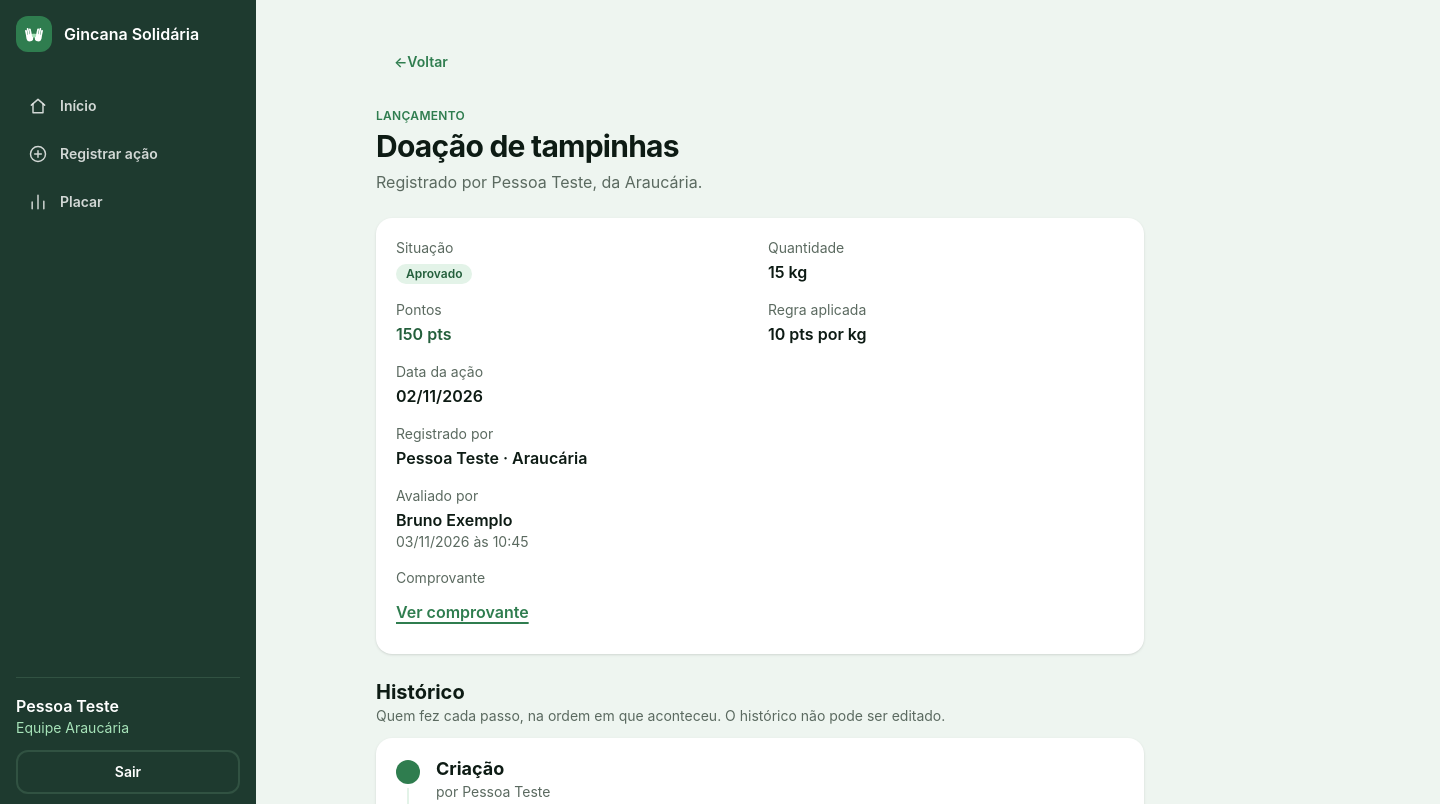
Test: Detalhe do lançamento e histórico (US09) › quem chega e de onde › quem chega por um link direto volta ao início do próprio perfil, e não para fora do app
The width and height of the screenshot is (1440, 804).
Step 1. Click the button "← Voltar" → {"x": 421, "y": 62}, box x1=376 y1=40 x2=466 y2=84
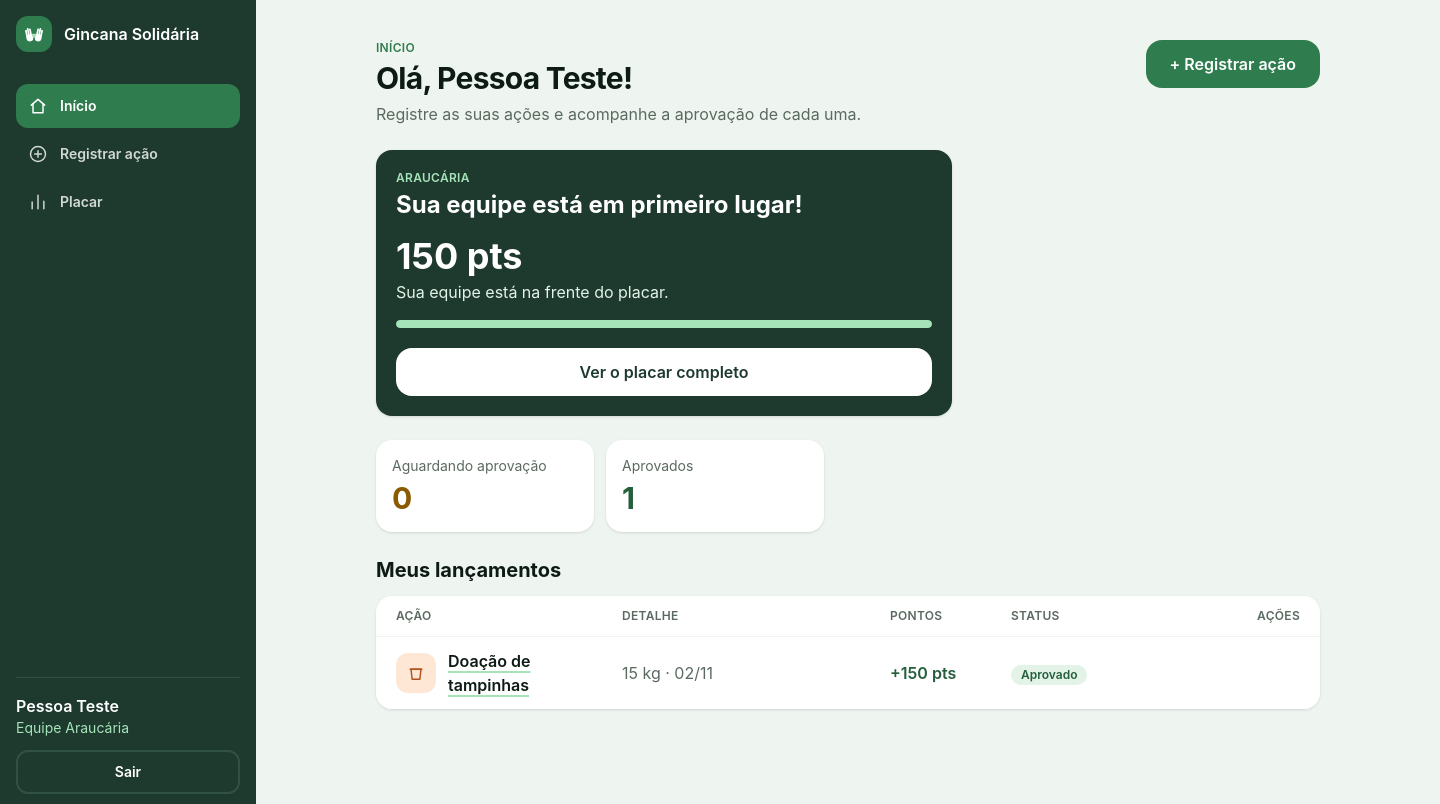
Check: the heading "Olá, Pessoa Teste!" is shown, box x1=376 y1=60 x2=632 y2=96
